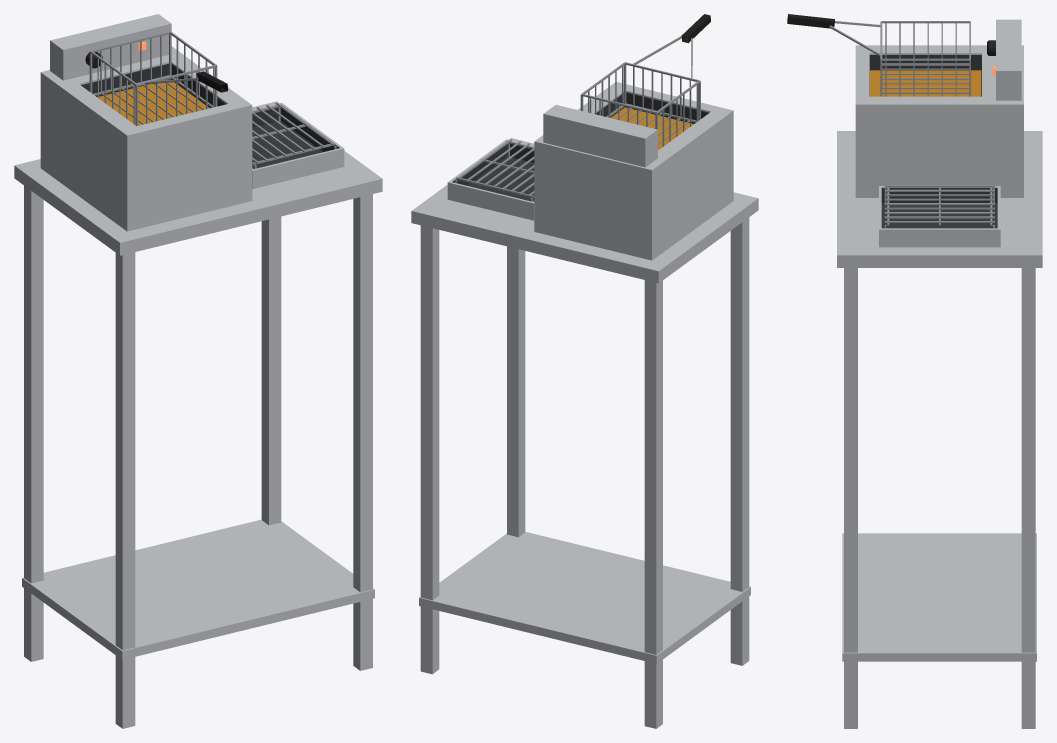
Rendered from fryer.glb.
3 views of the same model, side by side, from view 1: azimuth 30°, elevation 25°; view 2: azimuth 150°, elevation 25°; view 3: azimuth 270°, elevation 25° (orthographic). The views are drawn at different scales.
Parts seen in each view (by area): view 1: FryerStand, Fryer, FryerRack, FryerBasket, FryerOil; view 2: FryerStand, Fryer, FryerRack, FryerBasket, FryerOil; view 3: FryerStand, Fryer, FryerRack, FryerBasket, FryerOil.
Part boxes in pixels (left/top/right/bottom): FryerStand: left=14, top=101, right=382, bottom=728; Fryer: left=40, top=14, right=252, bottom=231; FryerRack: left=252, top=102, right=344, bottom=188; FryerBasket: left=89, top=31, right=227, bottom=125; FryerOil: left=97, top=79, right=209, bottom=125; FryerStand: left=411, top=138, right=758, bottom=728; Fryer: left=534, top=82, right=733, bottom=260; FryerRack: left=447, top=139, right=534, bottom=220; FryerBasket: left=580, top=14, right=710, bottom=146; FryerOil: left=611, top=107, right=693, bottom=150; FryerStand: left=837, top=131, right=1042, bottom=728; Fryer: left=855, top=19, right=1023, bottom=197; FryerRack: left=879, top=185, right=1000, bottom=247; FryerBasket: left=787, top=14, right=970, bottom=96; FryerOil: left=870, top=70, right=981, bottom=96.
Bounding box in the file's own units: 0.63 × 1.48 × 0.546.
